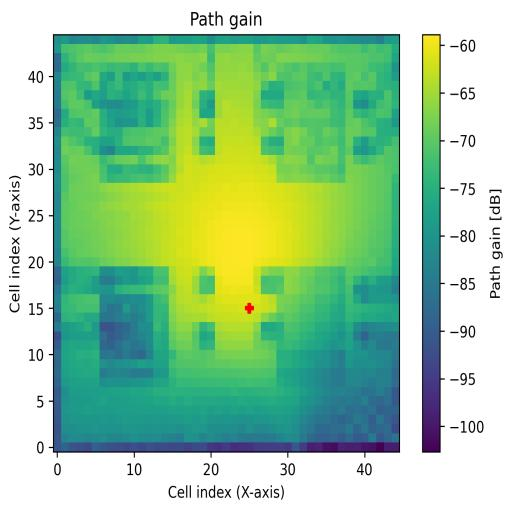Concrete: (277, 62, 347, 182)
Glass: (98, 62, 178, 183)
Metal: (277, 266, 345, 387)
Wood: (99, 266, 170, 386)
